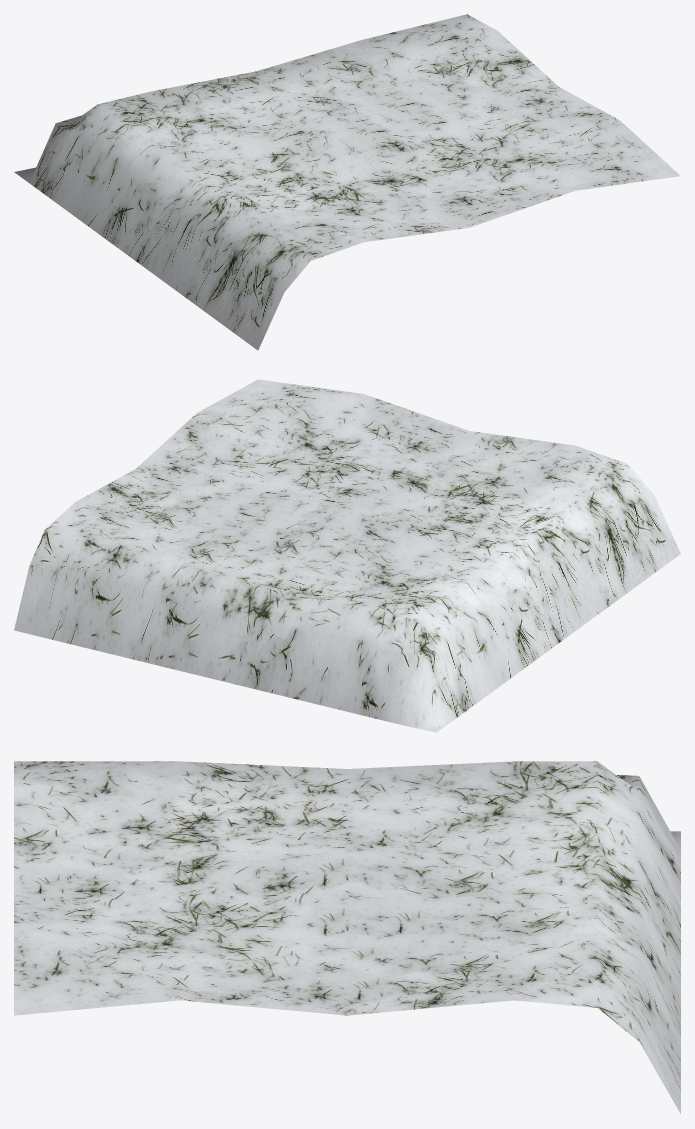
The model's file is SnowCorner.fbx.
The picture shows the model from 3 angles, top to bottom: view 1: azimuth 30°, elevation 25°; view 2: azimuth 150°, elevation 25°; view 3: azimuth 270°, elevation 25°; orthographic projection. The views are drawn at different scales.
Parts seen in each view (by area): view 1: Plane.008; view 2: Plane.008; view 3: Plane.008.
Part boxes in pixels (bbox=[...]): Plane.008: bbox=[14, 14, 680, 350]; Plane.008: bbox=[14, 379, 680, 732]; Plane.008: bbox=[14, 761, 680, 1113].
Size of the model in its own units: 200 by 37.78 by 200.
